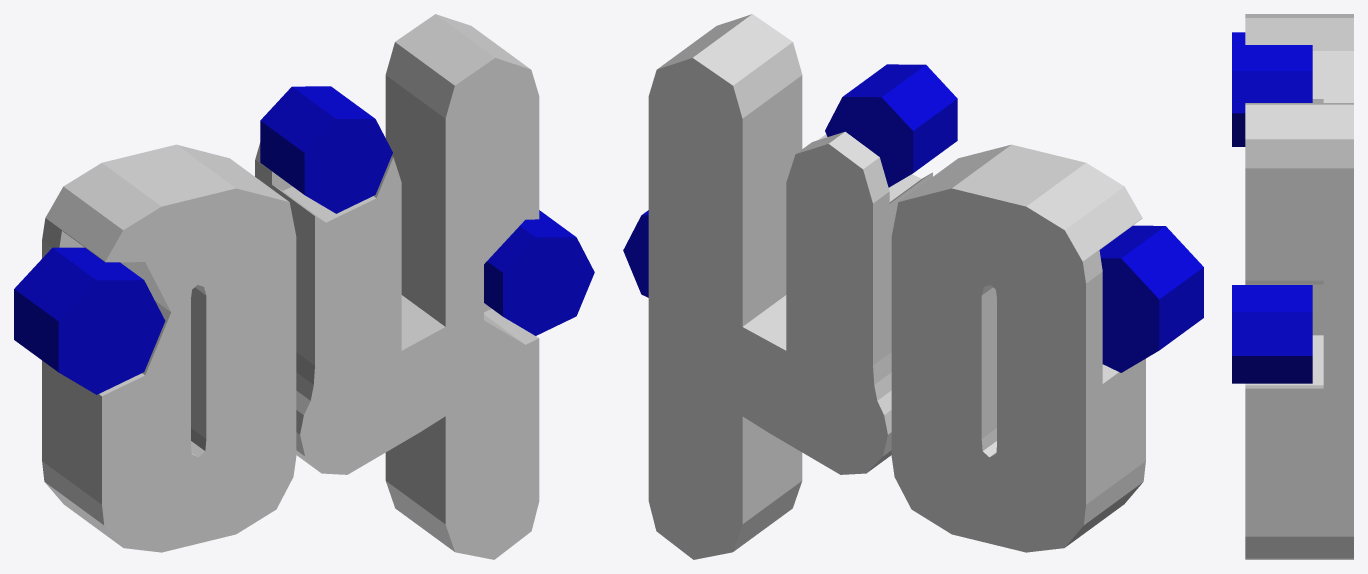
File: Ch_Lite_China_叫_01.fbx
3 renders of one model, left to right at view 1: azimuth 30°, elevation 25°; view 2: azimuth 150°, elevation 25°; view 3: azimuth 270°, elevation 25°, orthographic. The views are drawn at different scales.
Parts seen in each view (by area): view 1: sphere1; view 2: sphere1; view 3: sphere1.
Boxes of the visible parts, x1,y1,x2,y2 form: sphere1: [14, 14, 594, 559]; sphere1: [623, 14, 1203, 559]; sphere1: [1232, 14, 1353, 559].
Bounding box in the file's own units: 1.03 × 0.9243 × 0.2242.
